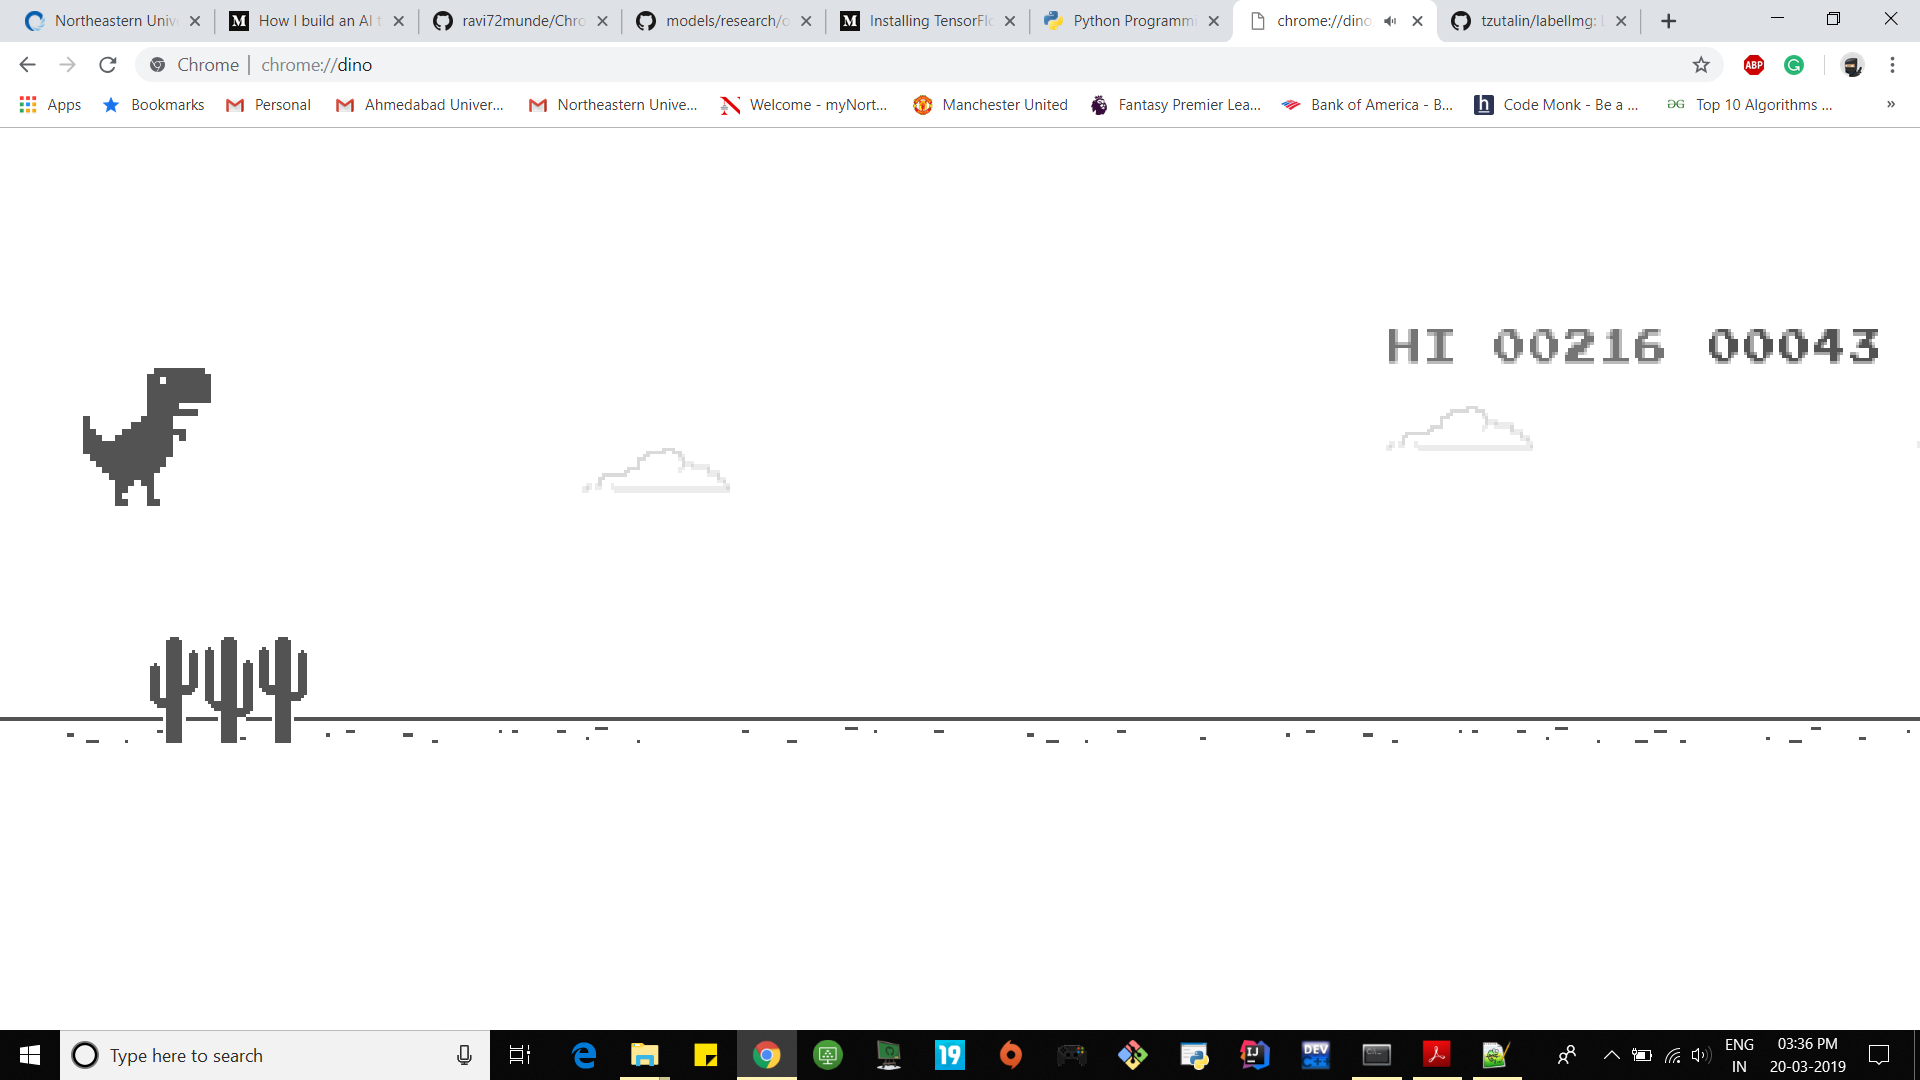cactus-3: (148, 633, 307, 746)
dino: (80, 365, 214, 508)
